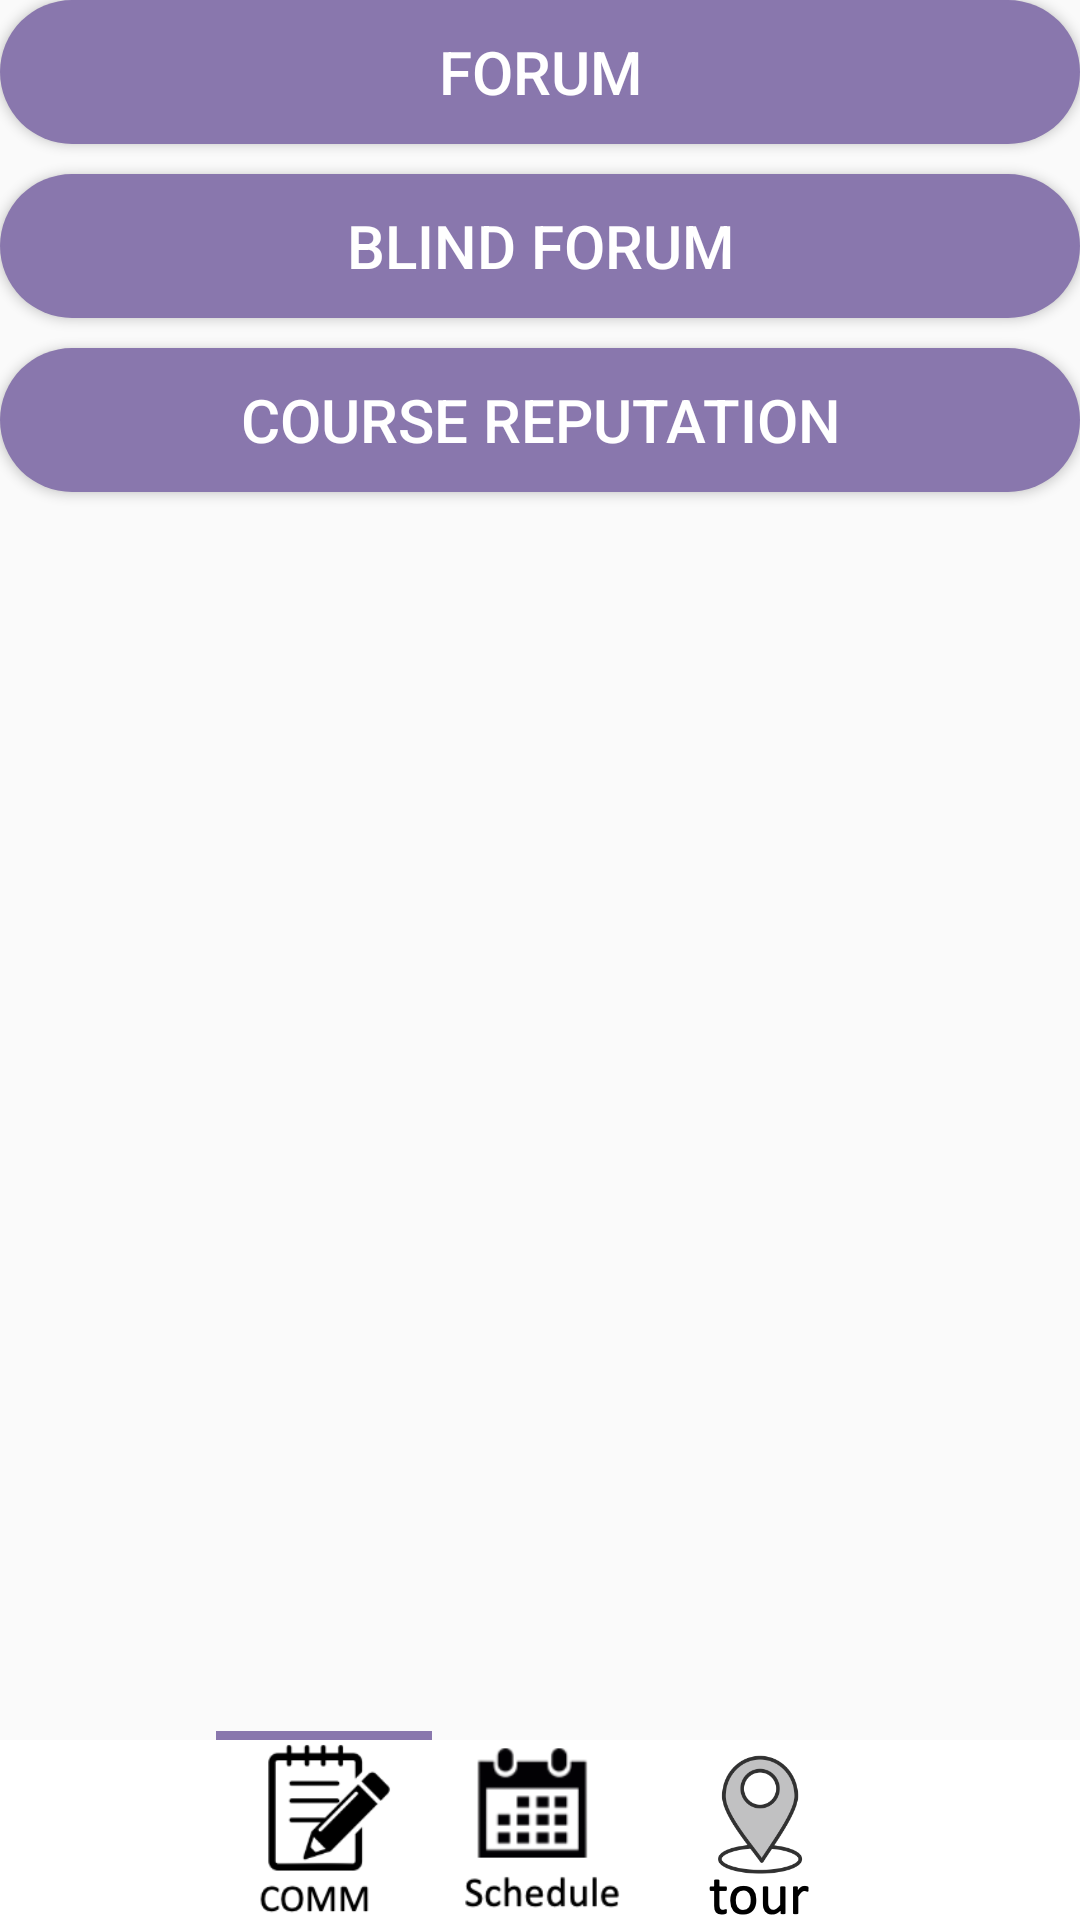

Where to tap for icons on this 1080x1920 app screen, as (x=x, y=y):
map: (x=759, y=1835)
